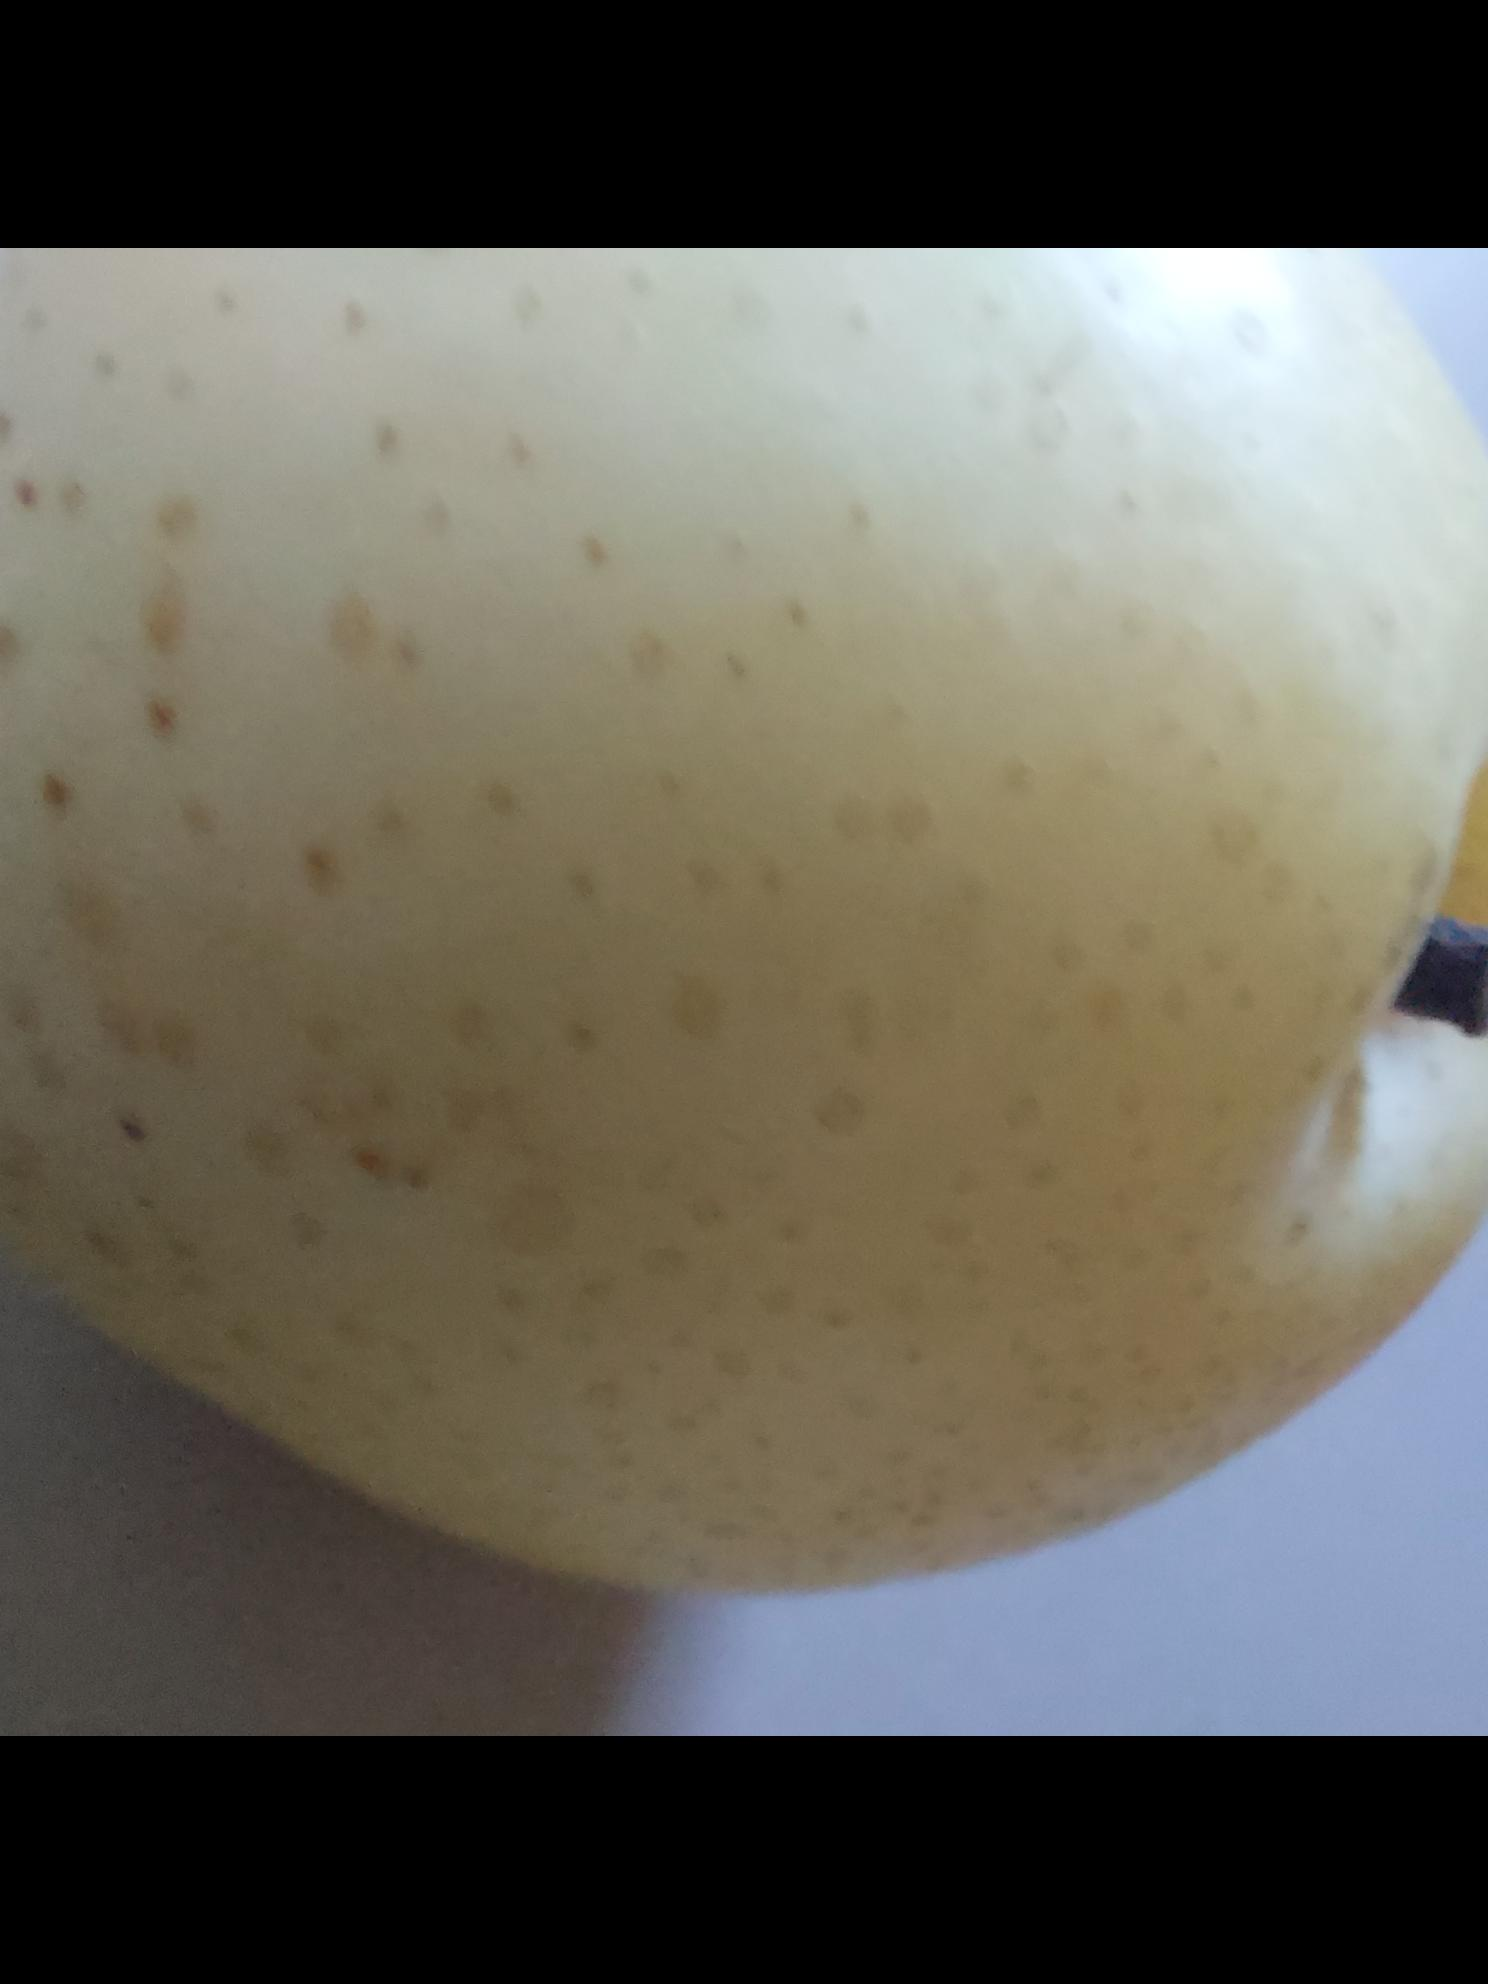Good Pear: (0, 248, 1488, 1614)
